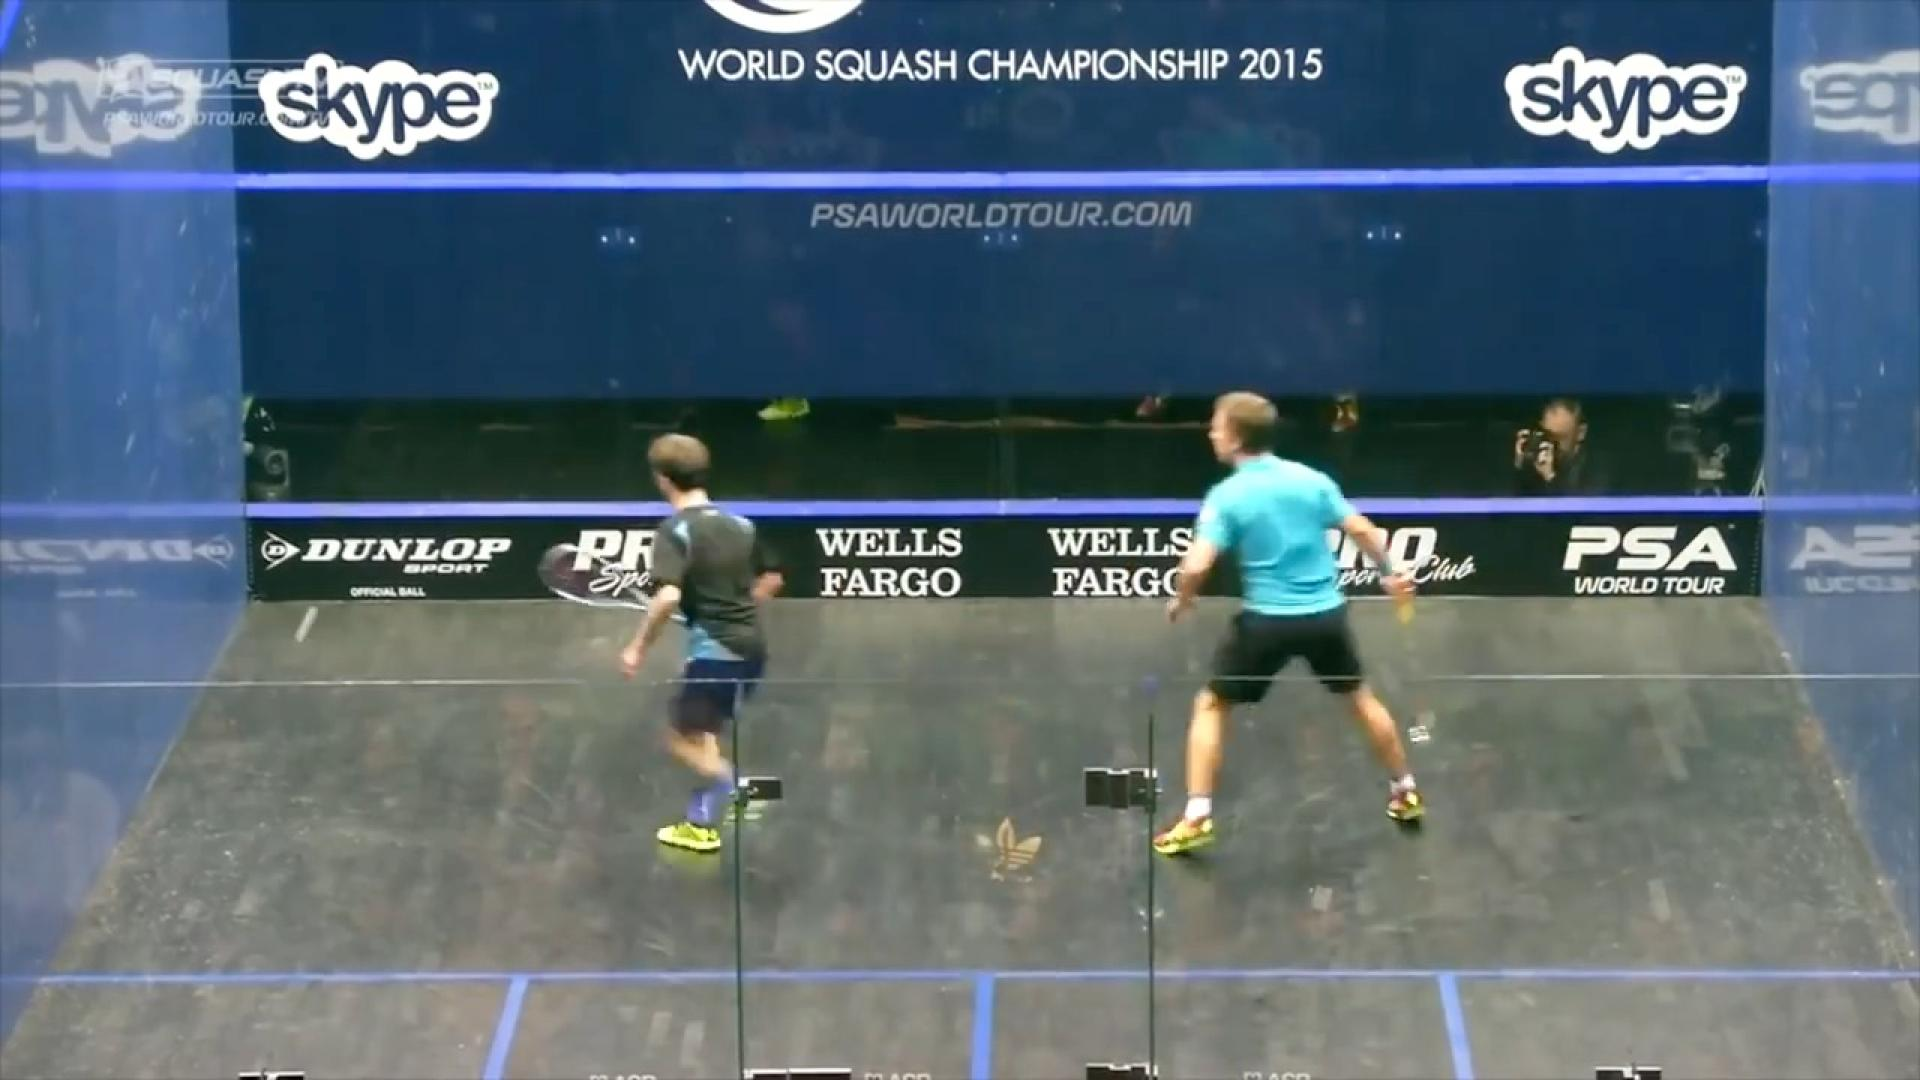Squash-Ball: (285, 603, 328, 653)
